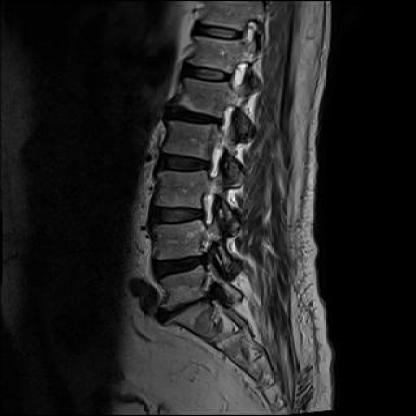Degenerative Disc Diseaserotation: (145, 245, 222, 279), (147, 291, 235, 318)
Disc Bulgerotation: (145, 246, 220, 279), (147, 293, 235, 317)
Disc Relaxationrotation: (149, 199, 213, 230), (156, 147, 220, 178), (165, 99, 229, 130)
